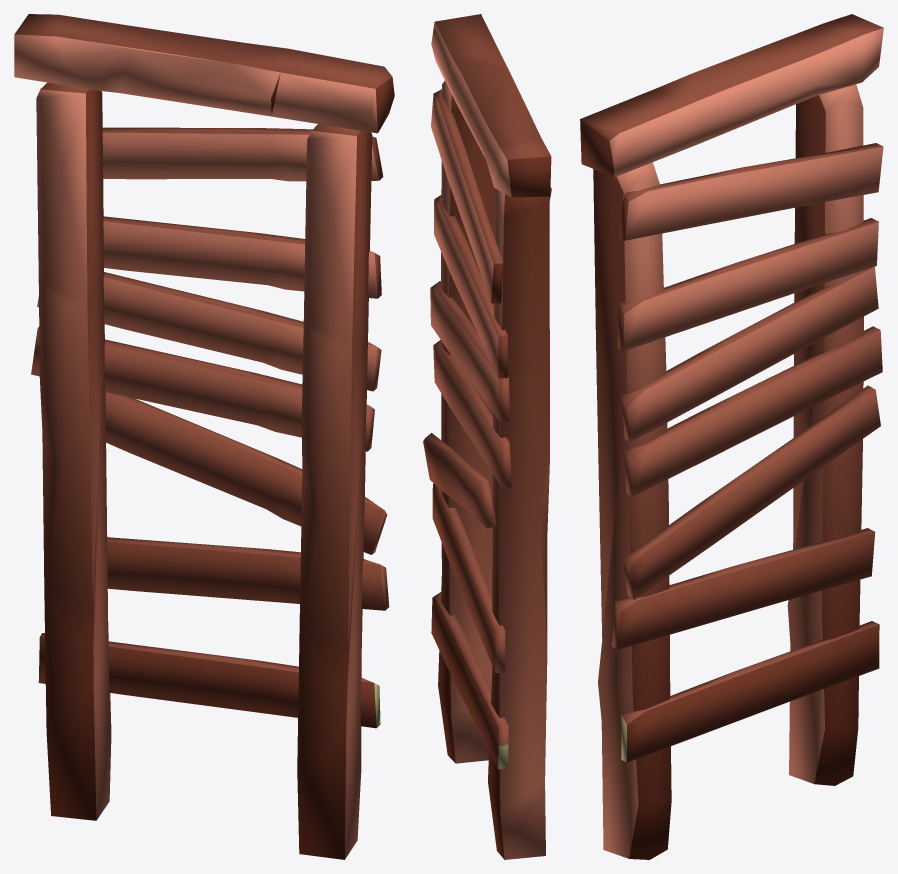
Rendered from Tapia4.Prop.4.fbx.
The picture shows the model from 3 angles, left to right: view 1: azimuth 30°, elevation 25°; view 2: azimuth 150°, elevation 25°; view 3: azimuth 270°, elevation 25°; orthographic projection. The views are drawn at different scales.
Visible parts, largest first — view 1: Tapia; view 2: Tapia; view 3: Tapia.
Part boxes in pixels (<box>): Tapia: <box>14,14,394,859</box>; Tapia: <box>423,14,551,859</box>; Tapia: <box>580,14,883,859</box>.
Bounding box in the file's own units: 112 × 326 × 120.
